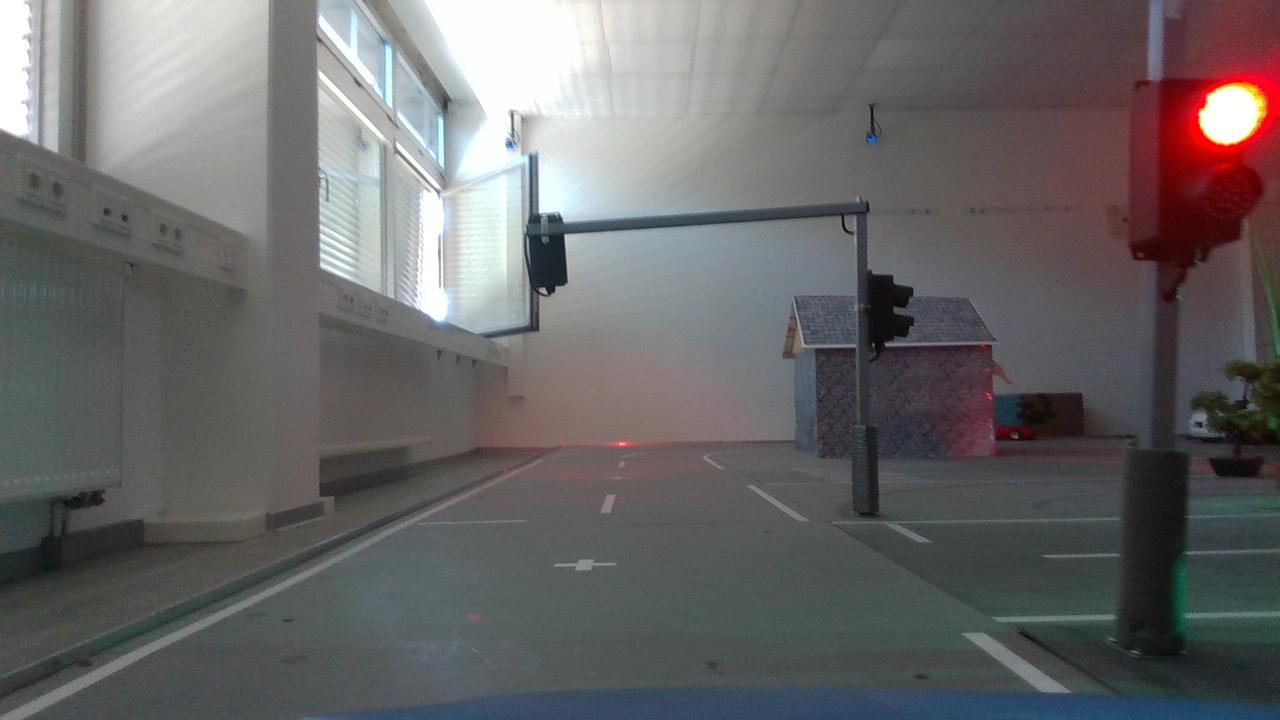traffic_light_red: (1110, 63, 1280, 287)
